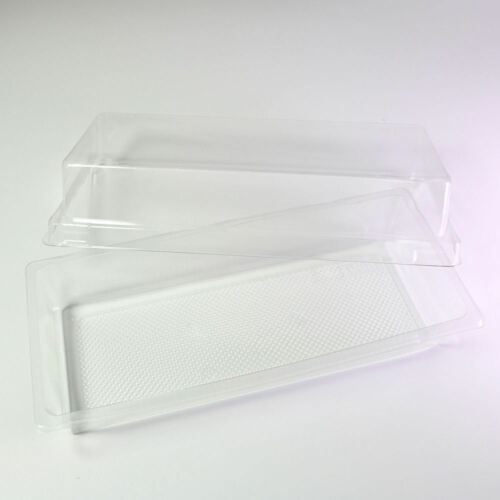PlasticBox: (22, 104, 490, 441)
